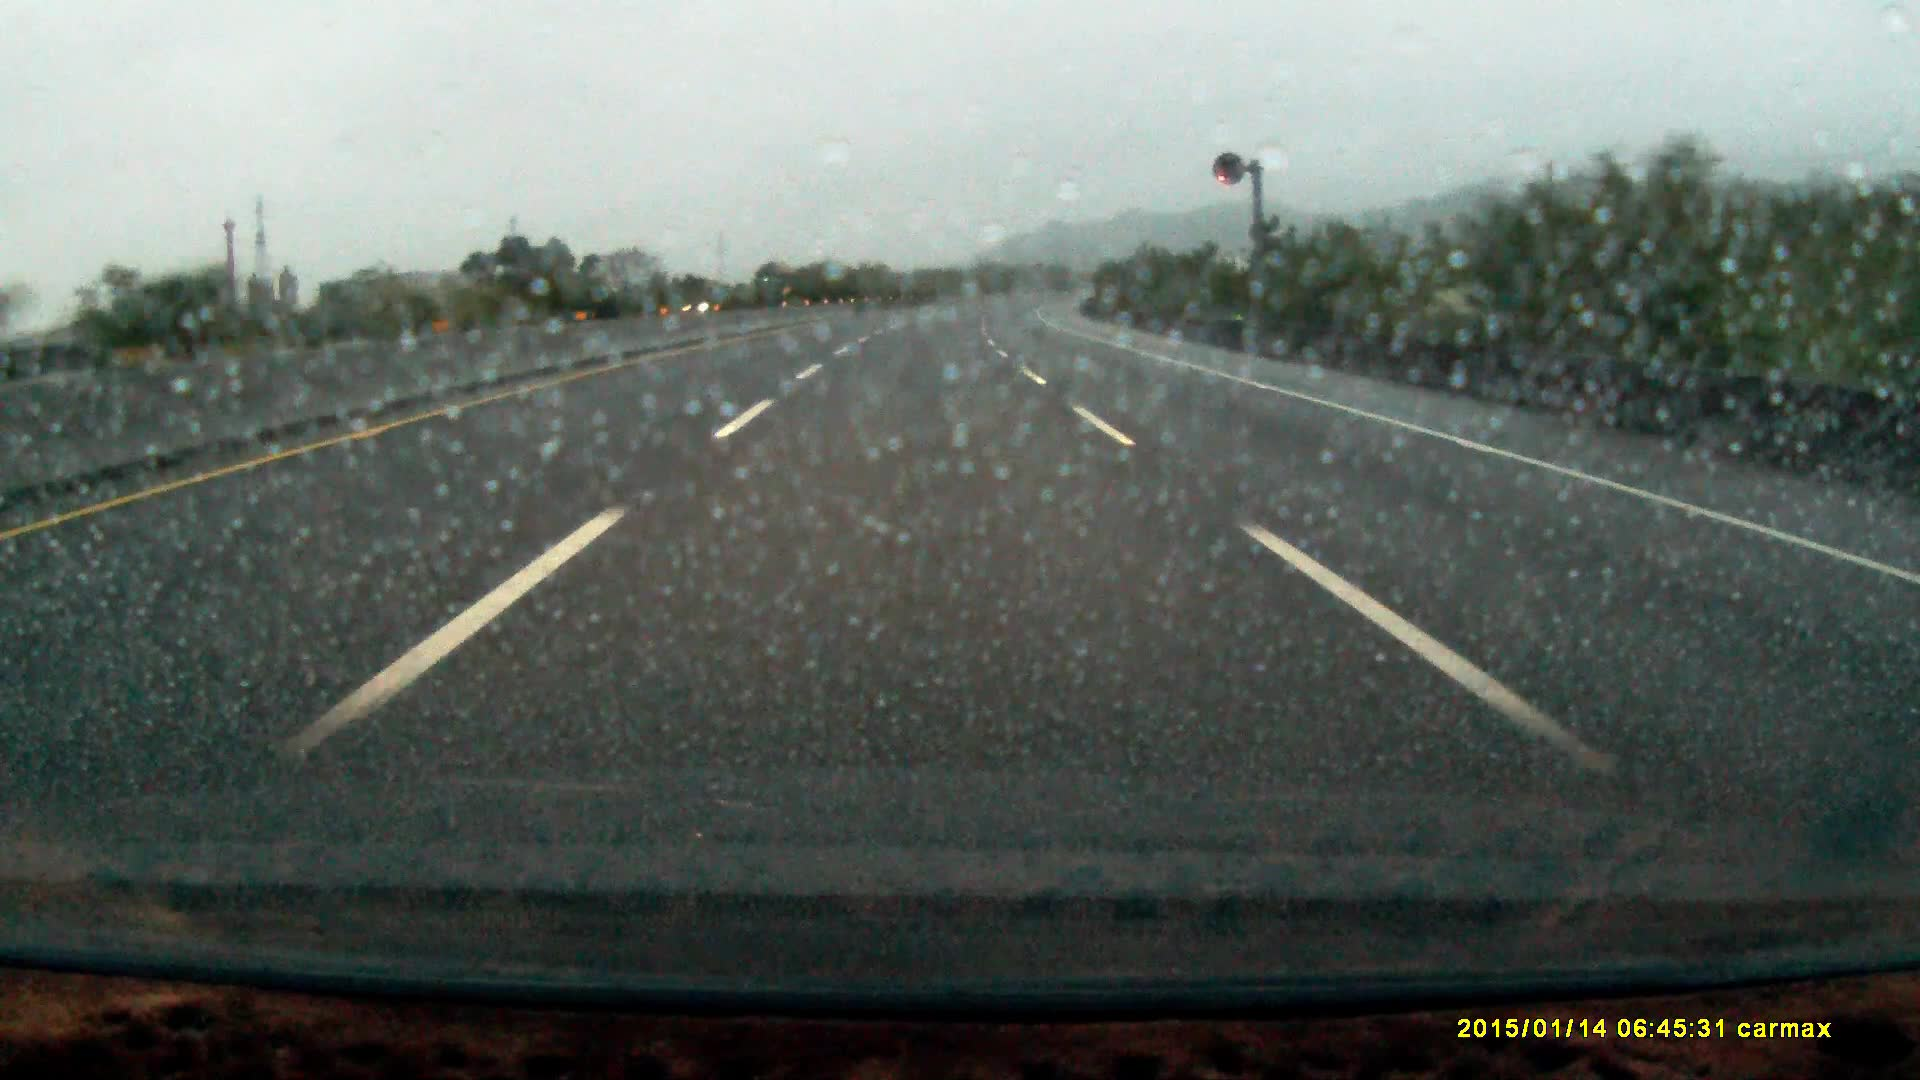vehicle: (753, 262, 796, 303), (682, 295, 727, 315)
